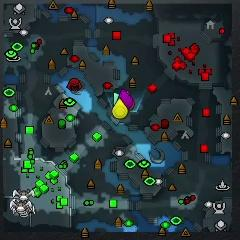p2: (112, 92, 119, 105)
p3: (118, 90, 134, 108)
p4: (113, 98, 128, 119)
